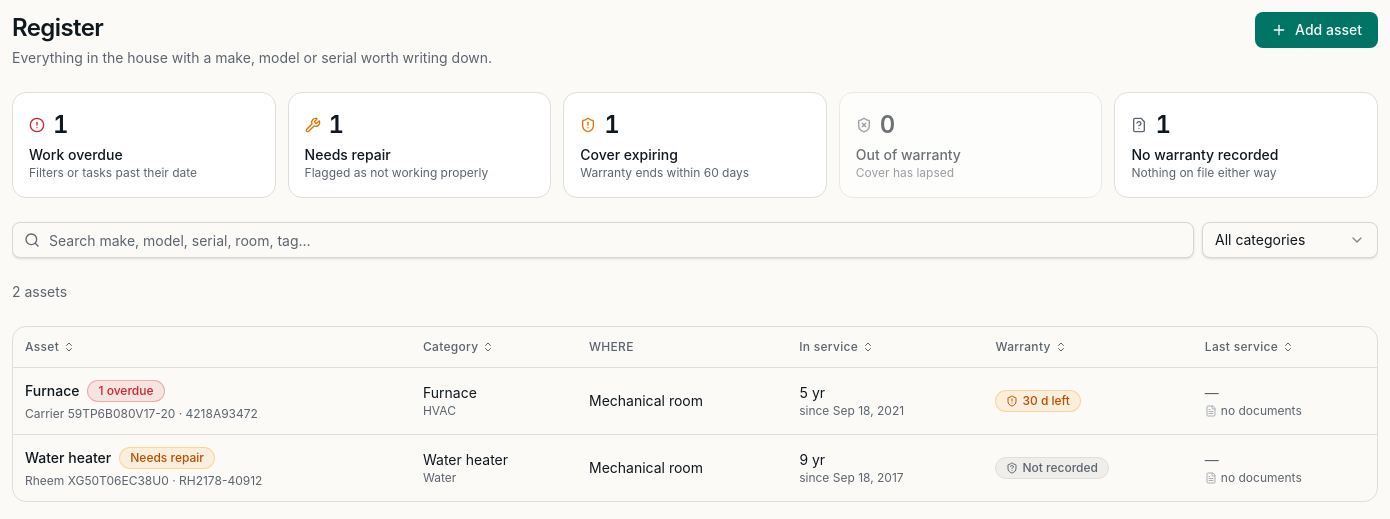
Test: AssetsPage › searches across make and serial, not just the name
The width and height of the screenshot is (1390, 519).
expect the link "Furnace" is shown: met, box [25, 380, 80, 400]
Type "RH2178" into the field named "Search the register" at (603, 240), box [12, 222, 1194, 258]
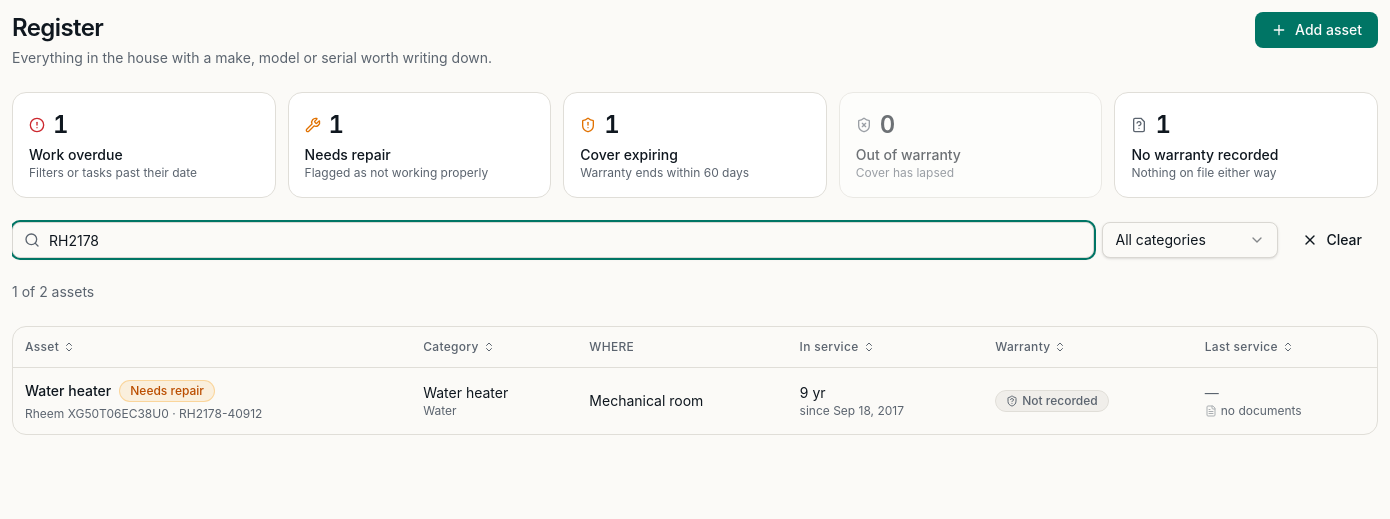
expect the link "Water heater" is shown: met, box [25, 380, 111, 400]
expect the link "Furnace" is gone: met
expect the text "1 of 2 assets" is shown: met, box [12, 283, 94, 300]
